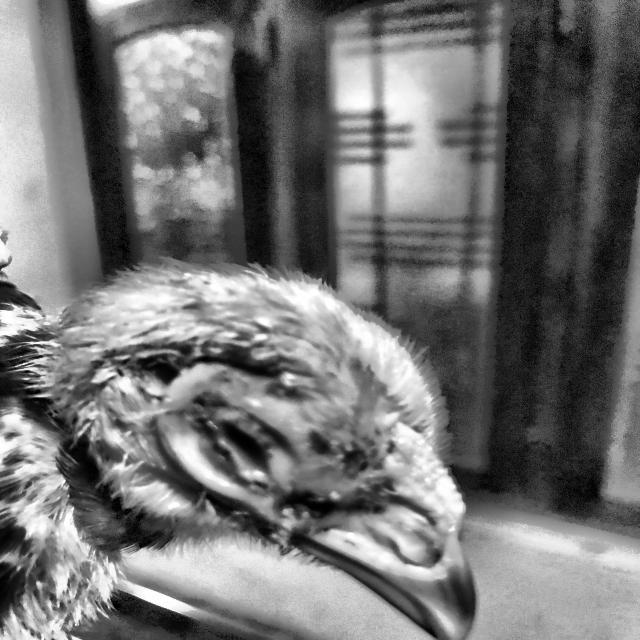Coryza: (68, 243, 528, 640)
